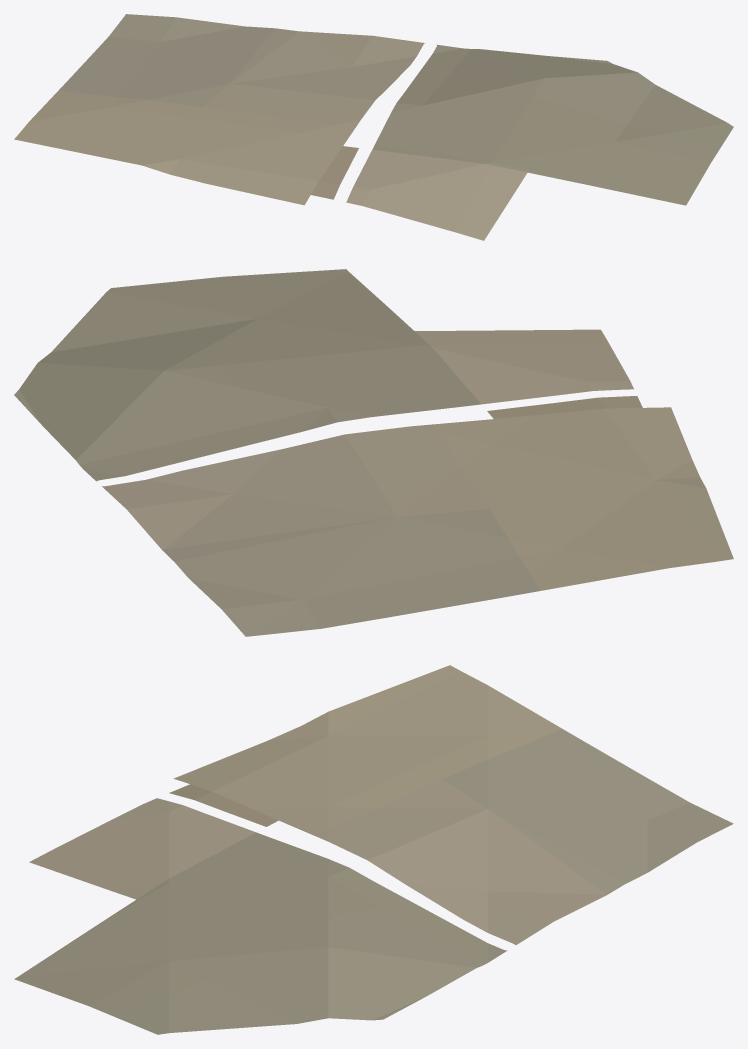
Rendered from farm_-15_-24_soil.glb.
3 renders of one model, top to bottom at view 1: azimuth 30°, elevation 25°; view 2: azimuth 150°, elevation 25°; view 3: azimuth 270°, elevation 25°, orthographic. The views are drawn at different scales.
Visible parts, largest first — view 1: geometry_0; view 2: geometry_0; view 3: geometry_0.
Part boxes in pixels (x1=…): geometry_0: x1=14, y1=14, x2=733, y2=240; geometry_0: x1=14, y1=269, x2=733, y2=636; geometry_0: x1=14, y1=665, x2=733, y2=1034.
Size of the model in its own units: 389 by 26.74 by 361.
